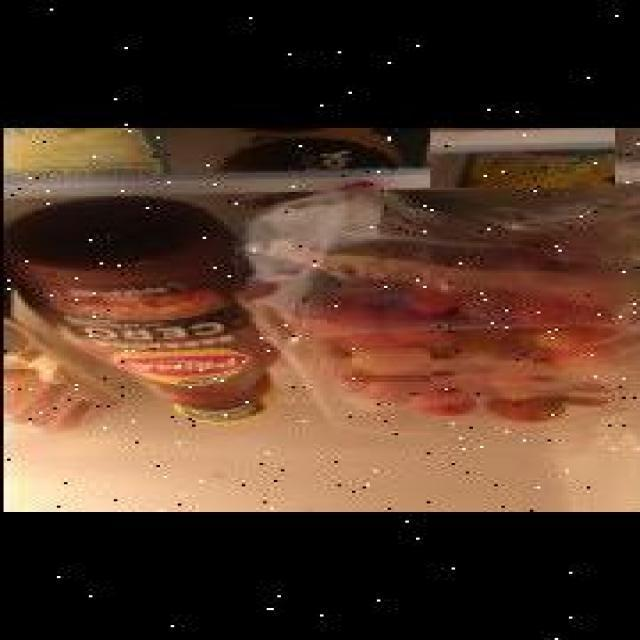yogurt: (426, 128, 612, 188), (348, 348, 426, 378)
